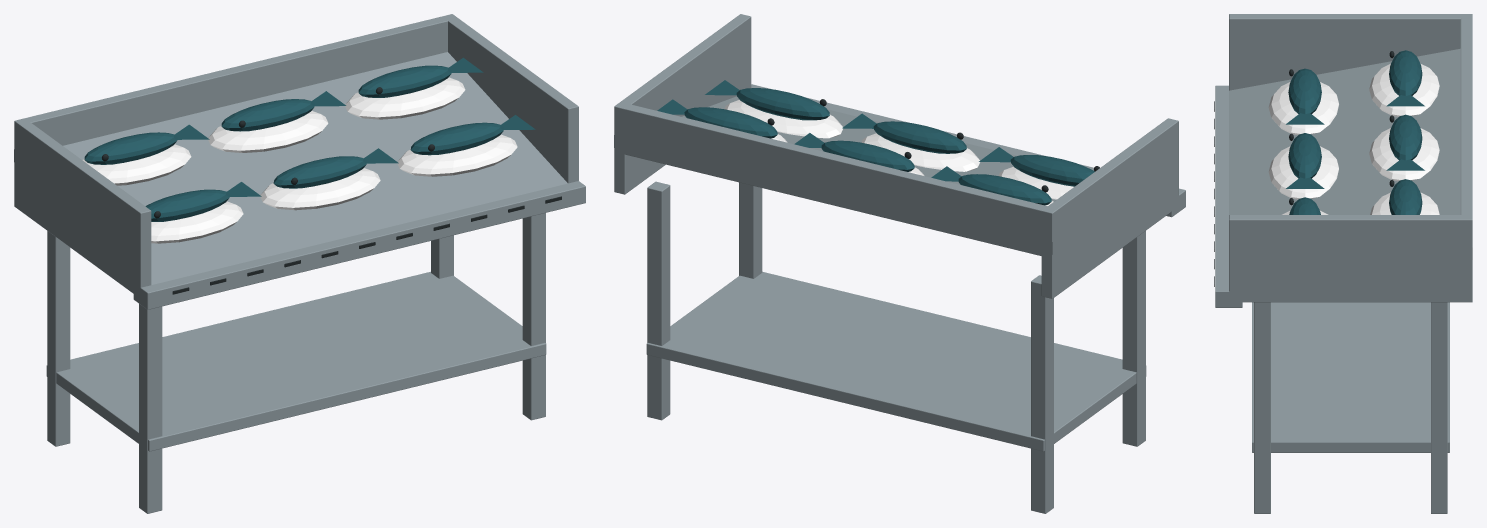
File: wet-market-fish-counter.glb
The picture shows the model from 3 angles, left to right: view 1: azimuth 30°, elevation 25°; view 2: azimuth 150°, elevation 25°; view 3: azimuth 270°, elevation 25°; orthographic projection. The views are drawn at different scales.
Visible parts, largest first — view 1: Lower_Shelf, Ice_Well_Base, Well_Back, Well_Side, Drain_Gutter, Well_Side.001, Leg, Leg.001, Leg.002, Ice_Mound, Ice_Mound.003, Ice_Mound.005 (+10 smaller); view 2: Lower_Shelf, Well_Back, Well_Side, Ice_Well_Base, Well_Side.001, Leg.003, Leg.001, Leg, Leg.002, Removable_Fish.003, Removable_Fish.005, Removable_Fish.001 (+7 smaller); view 3: Lower_Shelf, Ice_Well_Base, Well_Side.001, Well_Side, Leg.002, Leg.003, Drain_Gutter, Well_Back, Ice_Mound.004, Ice_Mound.001, Ice_Mound.002, Ice_Mound.003 (+9 smaller).
Boxes of the visible parts, x1=… form: Lower_Shelf: x1=46, y1=271, x2=546, y2=451; Ice_Well_Base: x1=14, y1=52, x2=567, y2=299; Well_Back: x1=21, y1=15, x2=450, y2=145; Well_Side: x1=14, y1=119, x2=151, y2=293; Drain_Gutter: x1=133, y1=181, x2=585, y2=309; Well_Side.001: x1=443, y1=14, x2=578, y2=183; Leg: x1=139, y1=304, x2=162, y2=513; Leg.001: x1=47, y1=231, x2=70, y2=446; Leg.002: x1=522, y1=213, x2=545, y2=420; Ice_Mound: x1=345, y1=77, x2=465, y2=119; Ice_Mound.003: x1=260, y1=168, x2=380, y2=210; Ice_Mound.005: x1=397, y1=134, x2=517, y2=176; Lower_Shelf: x1=646, y1=271, x2=1146, y2=451; Well_Back: x1=620, y1=104, x2=1051, y2=256; Well_Side: x1=1041, y1=118, x2=1178, y2=298; Ice_Well_Base: x1=614, y1=96, x2=1178, y2=254; Well_Side.001: x1=614, y1=14, x2=751, y2=194; Leg.003: x1=647, y1=181, x2=670, y2=420; Leg.001: x1=1031, y1=275, x2=1053, y2=513; Leg: x1=1122, y1=231, x2=1145, y2=446; Leg.002: x1=739, y1=182, x2=762, y2=278; Removable_Fish.003: x1=873, y1=121, x2=966, y2=153; Removable_Fish.005: x1=736, y1=88, x2=829, y2=120; Removable_Fish.001: x1=1010, y1=155, x2=1094, y2=186; Lower_Shelf: x1=1252, y1=302, x2=1449, y2=452; Ice_Well_Base: x1=1229, y1=48, x2=1472, y2=303; Well_Side.001: x1=1229, y1=215, x2=1472, y2=302; Well_Side: x1=1229, y1=14, x2=1472, y2=90; Leg.002: x1=1254, y1=302, x2=1270, y2=513; Leg.003: x1=1431, y1=302, x2=1447, y2=513; Drain_Gutter: x1=1215, y1=85, x2=1242, y2=307; Well_Back: x1=1460, y1=16, x2=1472, y2=216; Ice_Mound.004: x1=1369, y1=128, x2=1439, y2=181; Ice_Mound.001: x1=1268, y1=82, x2=1338, y2=135; Ice_Mound.002: x1=1369, y1=63, x2=1439, y2=116; Ice_Mound.003: x1=1268, y1=146, x2=1338, y2=199.
Size of the model in its own units: 1.6 by 1.1 by 0.8485.
